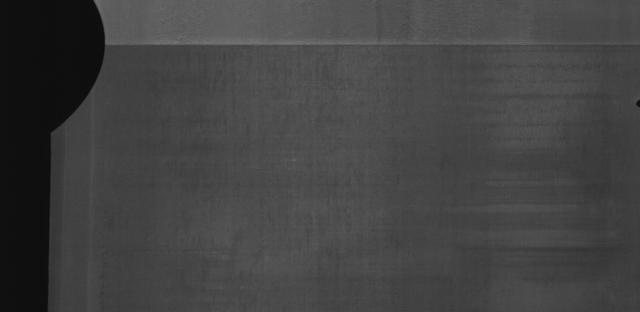crescent_gap: (45, 0, 113, 140)
punching_hole: (634, 98, 640, 108)
welding_line: (100, 38, 640, 62)
